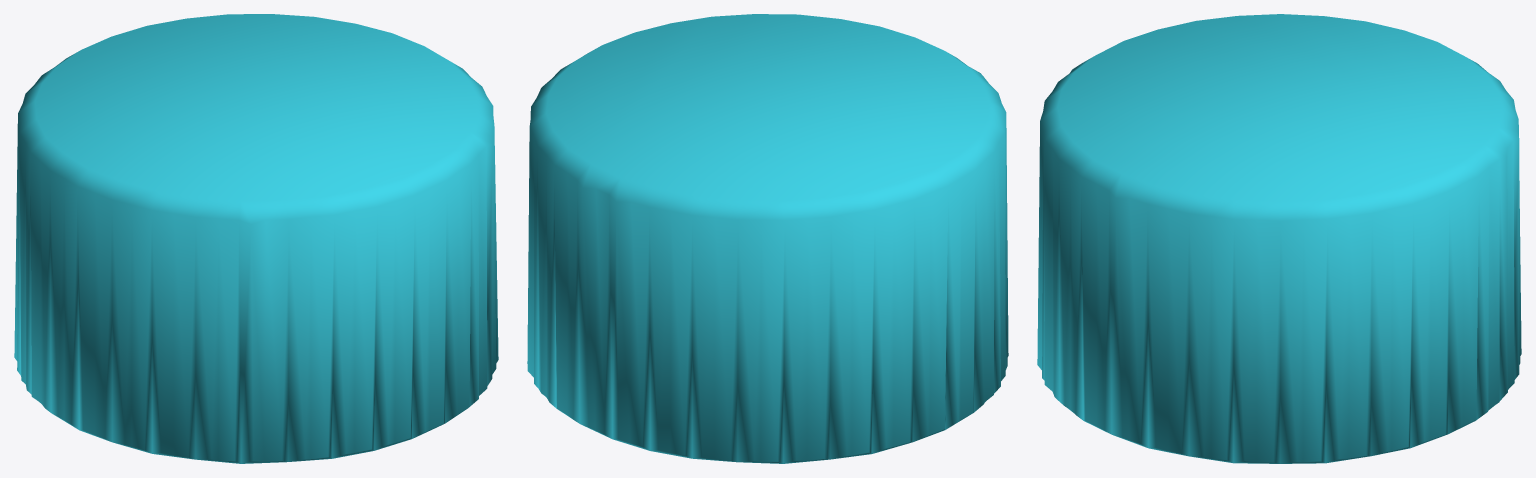
The model's file is Korkki.fbx.
3 renders of one model, left to right at view 1: azimuth 30°, elevation 25°; view 2: azimuth 150°, elevation 25°; view 3: azimuth 270°, elevation 25°, orthographic.
Parts seen in each view (by area): view 1: Korkki; view 2: Korkki; view 3: Korkki.
Part boxes in pixels (x1,y1,x2,y2): Korkki: (14,14,498,463); Korkki: (527,14,1008,463); Korkki: (1037,14,1521,463).
Bounding box in the file's own units: 4.37 × 2.58 × 4.4.
